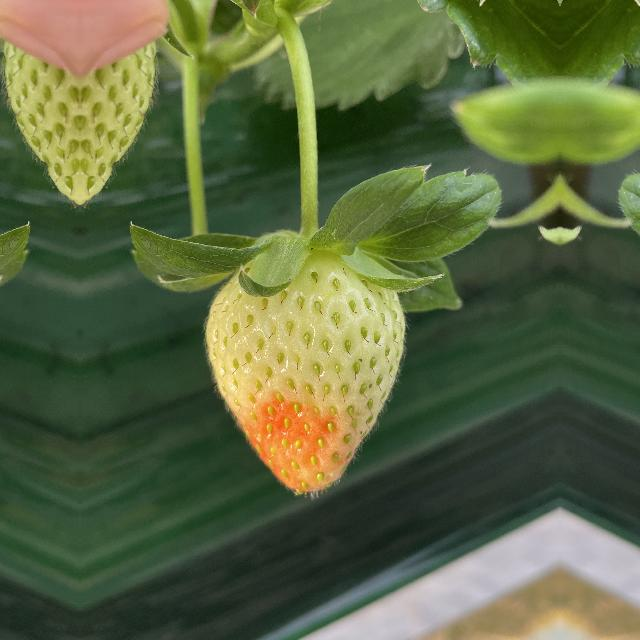Health_50: (205, 242, 408, 496)
